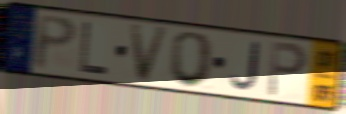J: (228, 40, 261, 93)
L: (78, 19, 110, 77)
O: (167, 30, 217, 89)
P: (33, 13, 79, 73), (266, 39, 310, 100)
V: (129, 23, 172, 85)
